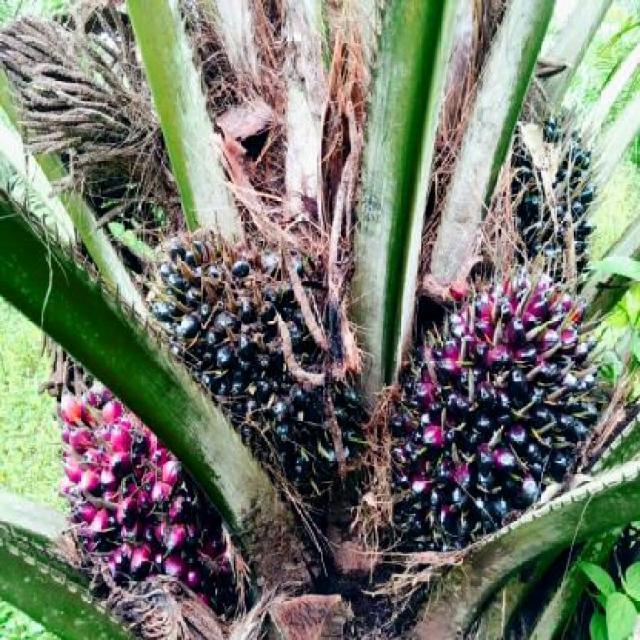palm-oil: (127, 224, 371, 498), (384, 263, 606, 529), (40, 376, 252, 604), (491, 96, 589, 282)
